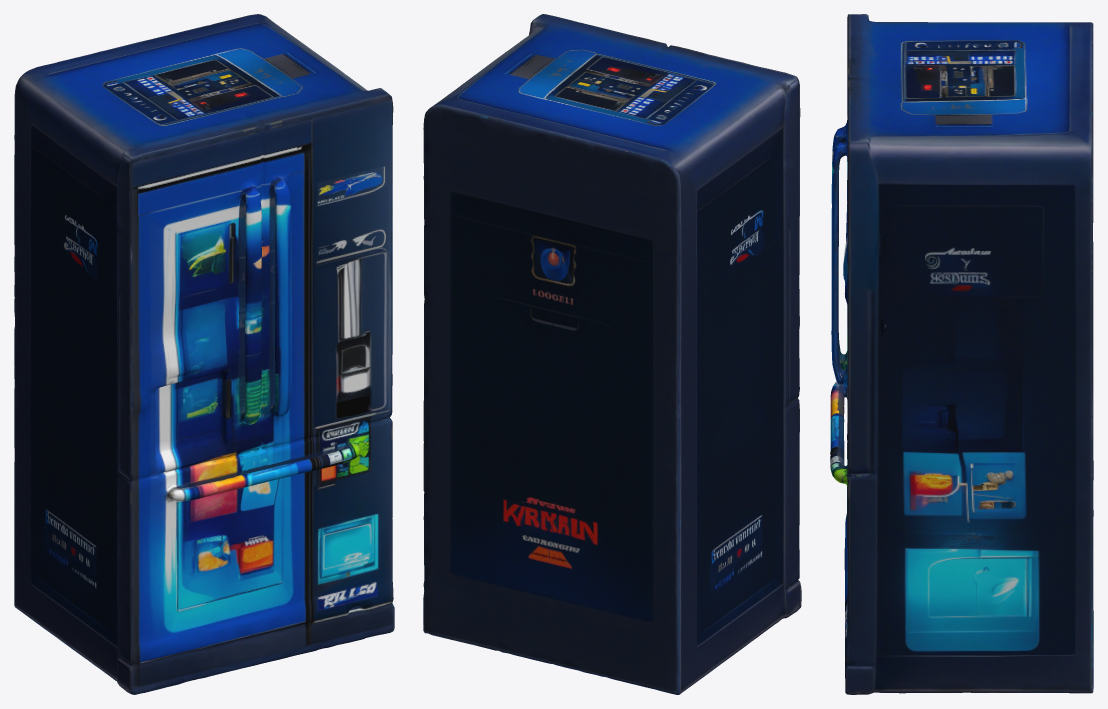
File: fridge-v2.glb
3 renders of one model, left to right at view 1: azimuth 30°, elevation 25°; view 2: azimuth 150°, elevation 25°; view 3: azimuth 270°, elevation 25°, orthographic. The views are drawn at different scales.
Bounding box in the file's own units: 1.03 × 2.01 × 0.8678.
Materials: 1 (1 with a texture image).
